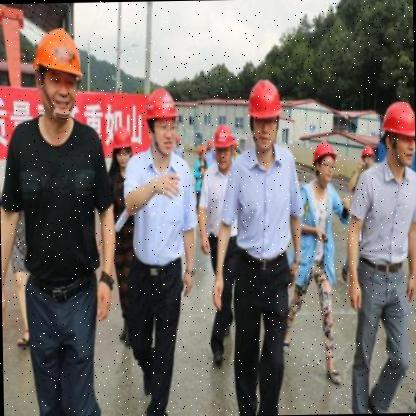bota: (208, 338, 226, 369), (326, 364, 342, 385)
capacete: (30, 26, 83, 118), (247, 78, 282, 151), (379, 99, 415, 167), (144, 90, 178, 151), (211, 124, 238, 170), (109, 126, 133, 168), (312, 142, 336, 182), (360, 144, 375, 168)
oculos: (315, 159, 335, 170)
